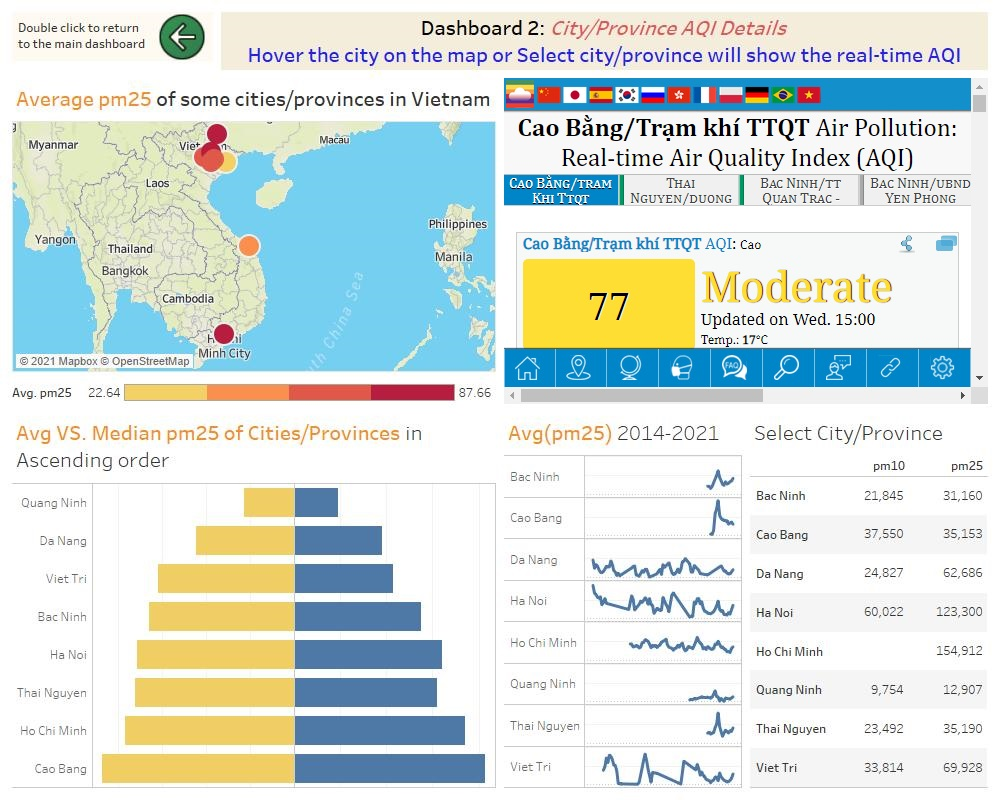

Layout of this report page (visuals, bound fields, positions):
{"tool":"tableau","page":{"name":"Dashboard 2","canvas":[1000,800],"ordinal":0},"visuals":[{"type":"worksheet","title":"nav2","mark":"Shape","rows":["Calculation_661184762623213572"],"box":[8,8,209,66]},{"type":"title","box":[217,8,775,66]},{"type":"worksheet","title":"PM25 map","mark":"Automatic","box":[8,74,492,302]},{"type":"web page","param":"https://aqicn.org/city/vietnam/bac-ninh/kcn-que-voe-1","box":[500,74,492,334]},{"type":"legend","title":"PM25 map","param":"[federated.1edaggq0qem6x41capvxn16w76xp].[avg:pm25:qk]","box":[8,376,492,32]},{"type":"worksheet","title":"PM25 avg&median","mark":"Automatic","rows":["Calculation_661184762592653314"],"cols":["pm25","pm25"],"box":[8,408,492,384]},{"type":"worksheet","title":"sparkline","mark":"Automatic","rows":["Calculation_661184762592653314","pm25"],"cols":["date"],"box":[500,408,246,384]},{"type":"worksheet","title":"Select City","mark":"Automatic","rows":["Calculation_661184762592653314"],"box":[746,408,246,384]}]}

Visuals, with their boxes in screenshot pixels (x1, y1, x2, y2), scaled from the page's 1000x800 canvas onto the 1000x800 screenshot:
"nav2" worksheet (Shape marks): detection(8, 8, 217, 74)
title: detection(217, 8, 992, 74)
"PM25 map" worksheet: detection(8, 74, 500, 376)
web page: detection(500, 74, 992, 408)
"PM25 map" legend: detection(8, 376, 500, 408)
"PM25 avg&median" worksheet: detection(8, 408, 500, 792)
"sparkline" worksheet: detection(500, 408, 746, 792)
"Select City" worksheet: detection(746, 408, 992, 792)
